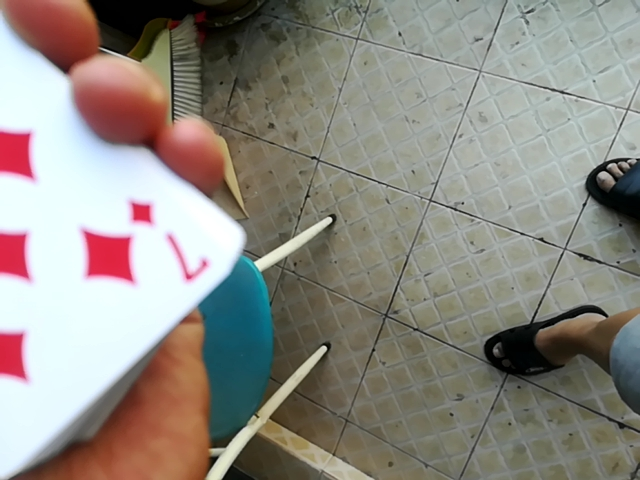fk 7: (0, 6, 232, 480)
